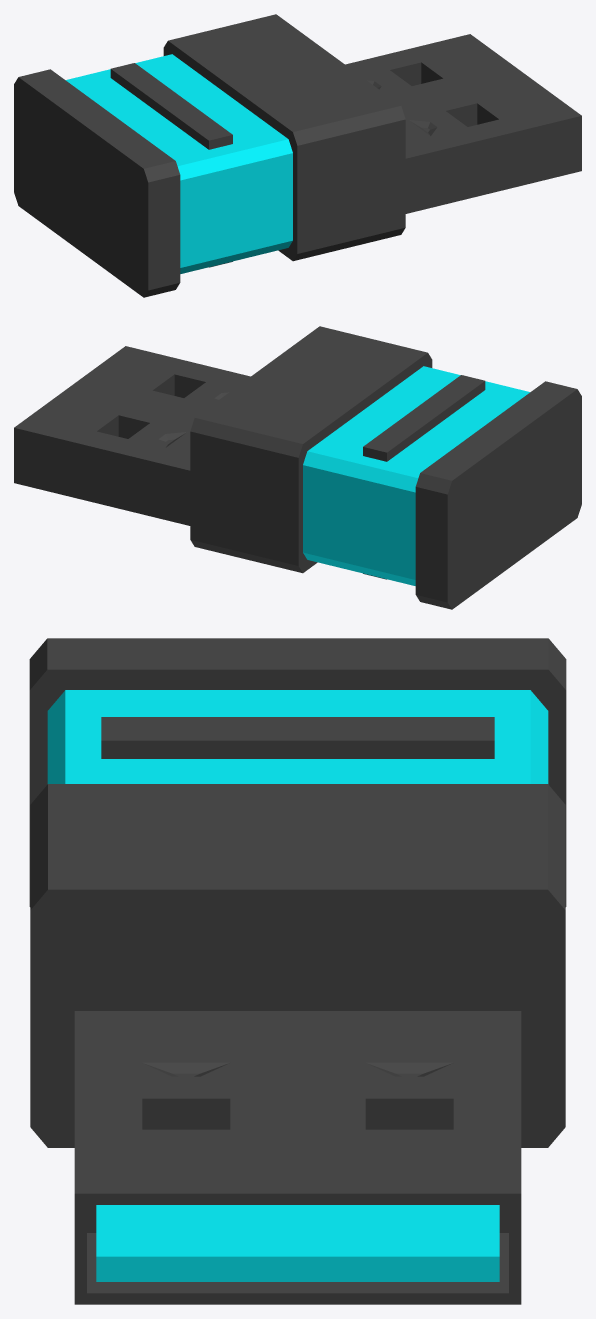
File: USB BLUETOOTH.fbx
3 views of the same model, one above another, from view 1: azimuth 30°, elevation 25°; view 2: azimuth 150°, elevation 25°; view 3: azimuth 270°, elevation 25° (orthographic). The views are drawn at different scales.
Visible parts, largest first — view 1: USB BLUETOOTH; view 2: USB BLUETOOTH; view 3: USB BLUETOOTH.
Part boxes in pixels (box(x1,y1,x2,y2)): USB BLUETOOTH: box(14, 14, 581, 297); USB BLUETOOTH: box(14, 326, 581, 609); USB BLUETOOTH: box(29, 638, 566, 1304).
Bounding box in the file's own units: 57.85 × 16.04 × 30.22.
